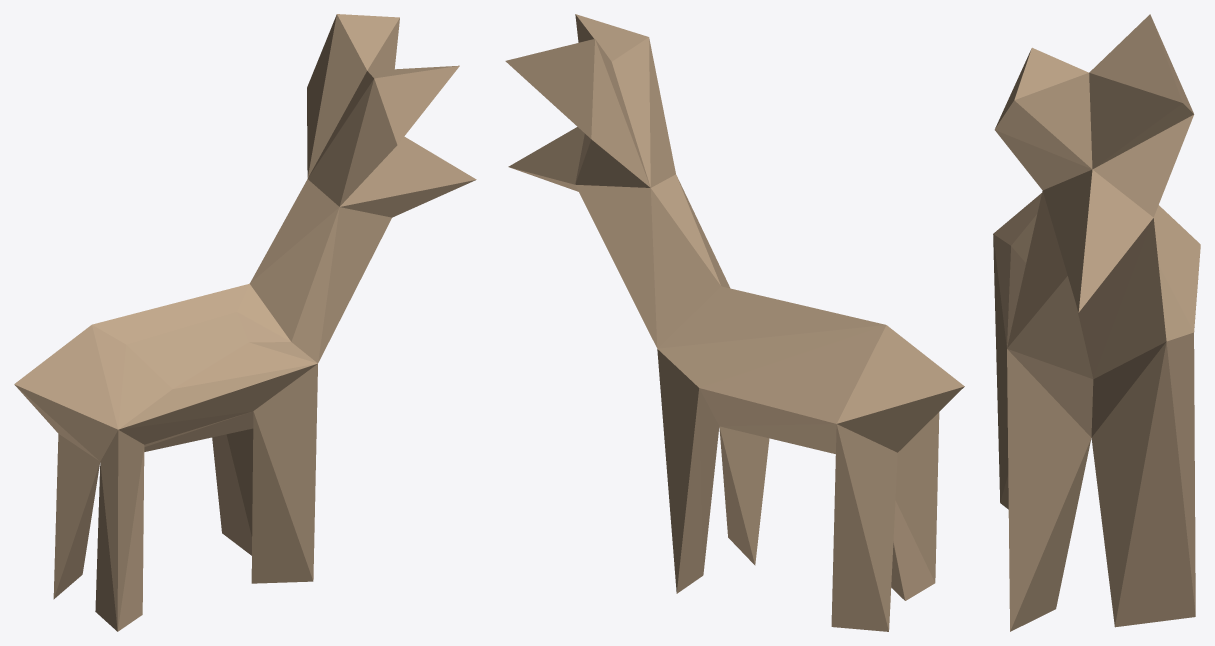
3 views of the same model, side by side, from view 1: azimuth 30°, elevation 25°; view 2: azimuth 150°, elevation 25°; view 3: azimuth 270°, elevation 25° (orthographic). The views are drawn at different scales.
Visible parts, largest first — view 1: part0; view 2: part0; view 3: part0.
Boxes of the visible parts, x1,y1,x2,y2 form: part0: (14,14,476,631); part0: (505,14,964,631); part0: (993,14,1200,631).
Bounding box in the file's own units: 3.45 × 3.72 × 1.04.
